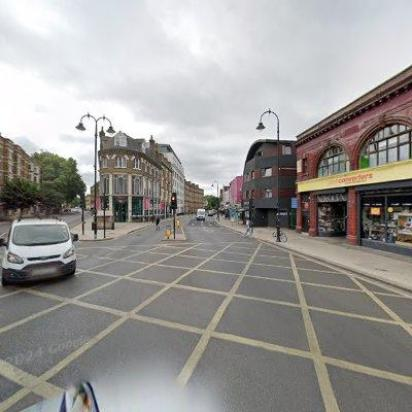moving-bicycle: (152, 213, 160, 230)
moving-light-truck: (0, 218, 82, 288), (194, 207, 208, 221)
stationary-bicycle-onstreet: (271, 228, 289, 242)
